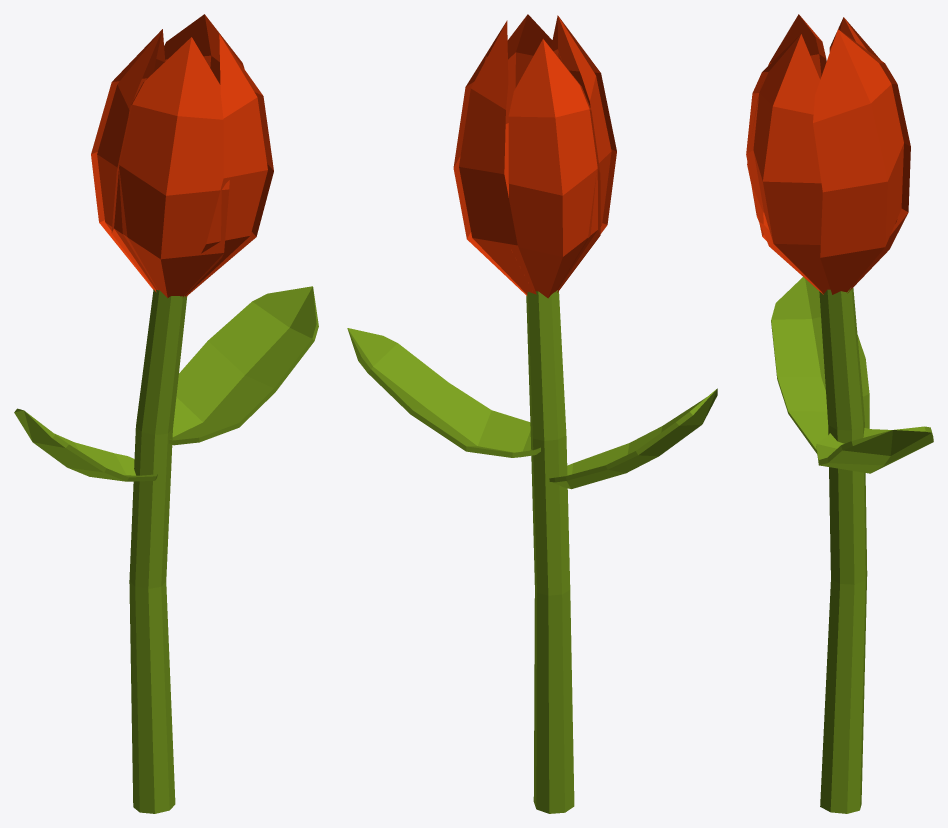
The model's file is flower_9.glb.
3 views of the same model, side by side, from view 1: azimuth 30°, elevation 25°; view 2: azimuth 150°, elevation 25°; view 3: azimuth 270°, elevation 25° (orthographic). The views are drawn at different scales.
Parts seen in each view (by area): view 1: Flower 9; view 2: Flower 9; view 3: Flower 9.
Boxes of the visible parts, x1,y1,x2,y2 form: Flower 9: [14, 14, 318, 813]; Flower 9: [347, 14, 717, 813]; Flower 9: [746, 14, 933, 813].
Size of the model in its own units: 0.8701 by 1.96 by 0.4152.
